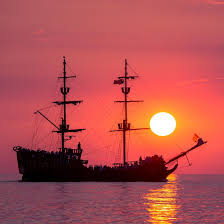boat: (13, 57, 207, 184)
